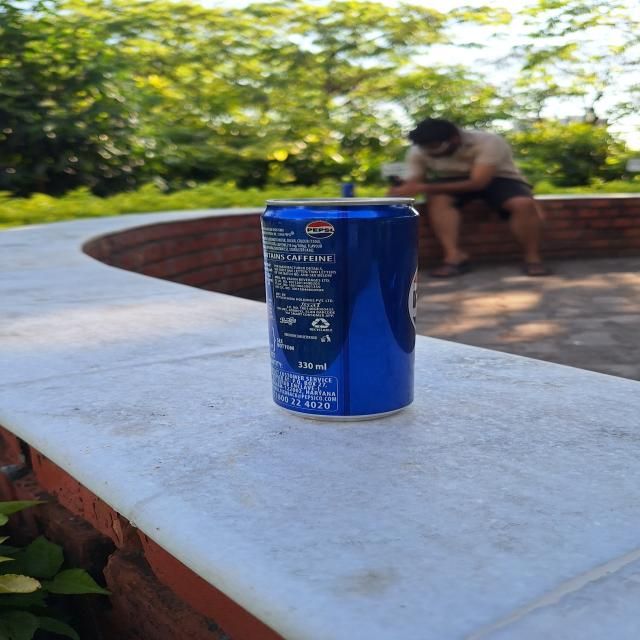Pepsi: (255, 202, 412, 414)
